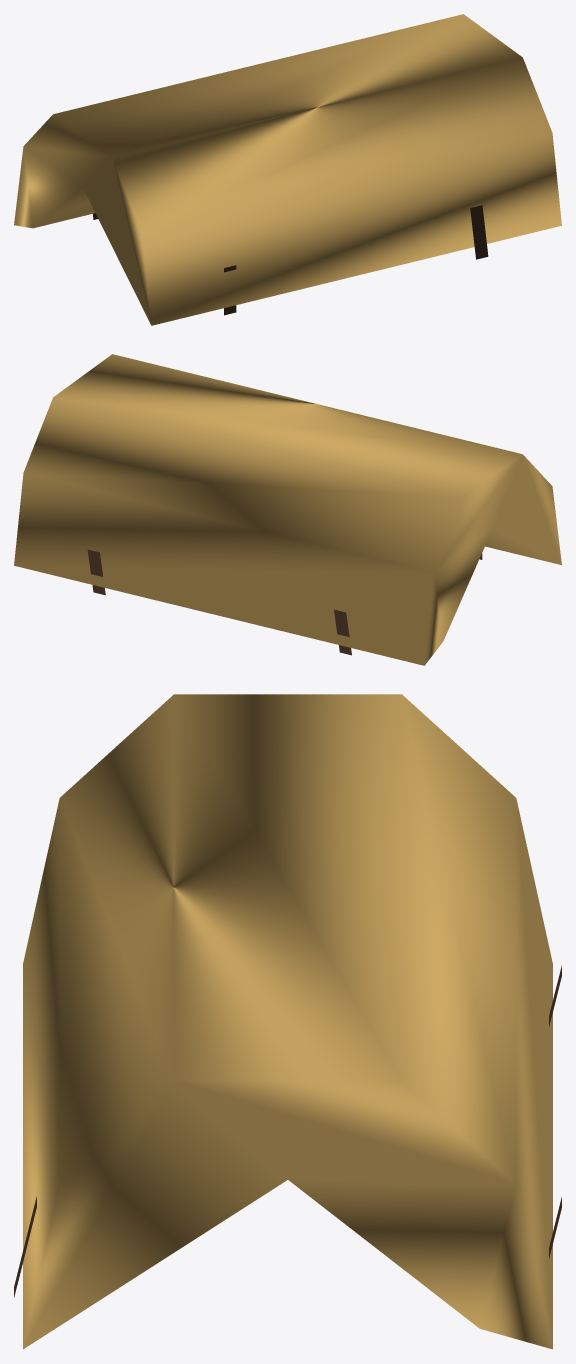
Rendered from roof_ridge_thatch_lod1.glb.
The picture shows the model from 3 angles, top to bottom: view 1: azimuth 30°, elevation 25°; view 2: azimuth 150°, elevation 25°; view 3: azimuth 270°, elevation 25°; orthographic projection. The views are drawn at different scales.
Size of the model in its own units: 2 by 0.7 by 1.2.
